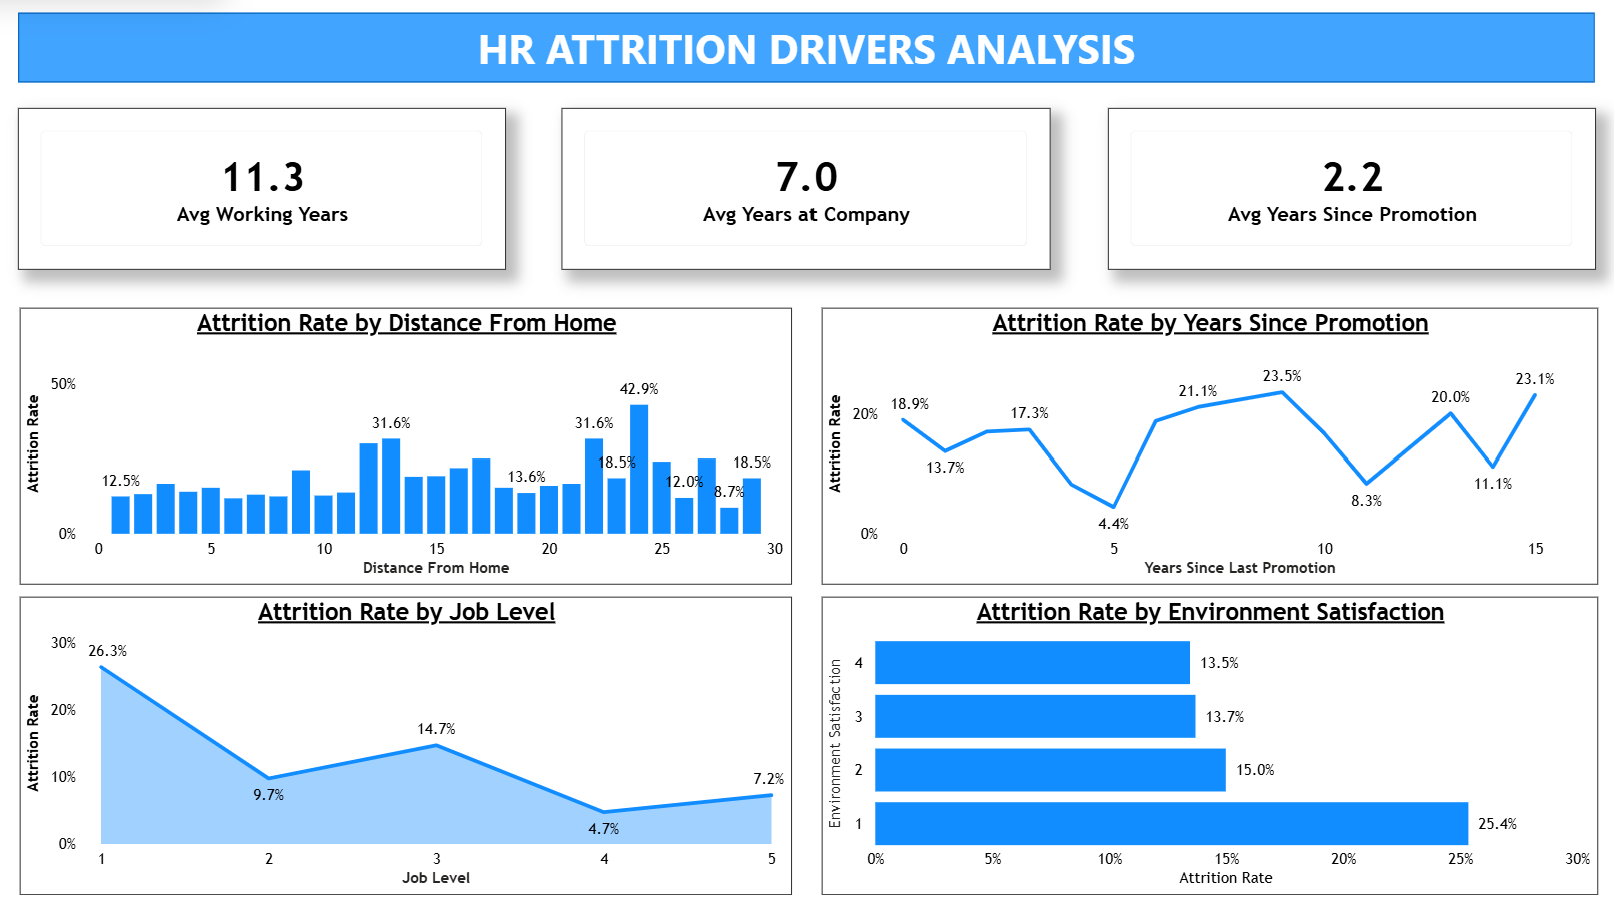

The dashboard page shown, as its layout file describes it:
{"tool":"powerbi","page":{"name":"HR Attrition Drivers Analysis","canvas":[1280,720],"ordinal":1},"visuals":[{"type":"shape","box":[14.6,10.2,1250.8,55.5],"z":0},{"type":"cardVisual","fields":{"Data":["Measure Table 2.Avg Working Years"]},"box":[14.6,76,387.2,128.6],"z":1000},{"type":"cardVisual","fields":{"Data":["Measure Table 2.Avg Working Years"]},"box":[14.6,86.2,387.2,128.6],"z":2000},{"type":"cardVisual","fields":{"Data":["Measure Table 2.Avg Years at Company"]},"box":[445.7,86.2,387.2,128.6],"z":3000},{"type":"cardVisual","fields":{"Data":["Measure Table 2.Avg Years Since Promo"]},"box":[878.2,86.2,387.2,128.6],"z":4000},{"type":"clusteredColumnChart","title":"Attrition Rate by Distance From Home","fields":{"Category":["HR-Employee-Attrition.DistanceFromHome"],"Y":["Measure Table.Attrition Rate"]},"box":[16.1,243.7,613,218.9],"z":5000},{"type":"lineChart","title":"Attrition Rate by Years Since Promotion","fields":{"Category":["HR-Employee-Attrition.YearsSinceLastPromotion"],"Y":["Measure Table.Attrition Rate"]},"box":[650.9,243.7,615.9,218.9],"z":6000},{"type":"clusteredBarChart","title":"Attrition Rate by Environment Satisfaction","fields":{"Category":["HR-Employee-Attrition.EnvironmentSatisfaction"],"Y":["Measure Table.Attrition Rate"]},"box":[650.9,472.9,615.9,236.4],"z":7000},{"type":"areaChart","title":"Attrition Rate by Job Level","fields":{"Category":["HR-Employee-Attrition.JobLevel"],"Y":["Measure Table.Attrition Rate"]},"box":[16.1,472.9,613,236.4],"z":8000}]}

Visuals, with their boxes in screenshot pixels (x1, y1, x2, y2), scaled from the page's 1280x720 canvas onto the 1618x914 screenshot:
shape: bbox=(18, 13, 1600, 83)
cardVisual - Measure Table 2.Avg Working Years: bbox=(18, 96, 508, 260)
cardVisual - Measure Table 2.Avg Working Years: bbox=(18, 109, 508, 273)
cardVisual - Measure Table 2.Avg Years at Company: bbox=(563, 109, 1053, 273)
cardVisual - Measure Table 2.Avg Years Since Promo: bbox=(1110, 109, 1600, 273)
"Attrition Rate by Distance From Home" clusteredColumnChart: bbox=(20, 309, 795, 587)
"Attrition Rate by Years Since Promotion" lineChart: bbox=(823, 309, 1601, 587)
"Attrition Rate by Environment Satisfaction" clusteredBarChart: bbox=(823, 600, 1601, 900)
"Attrition Rate by Job Level" areaChart: bbox=(20, 600, 795, 900)
